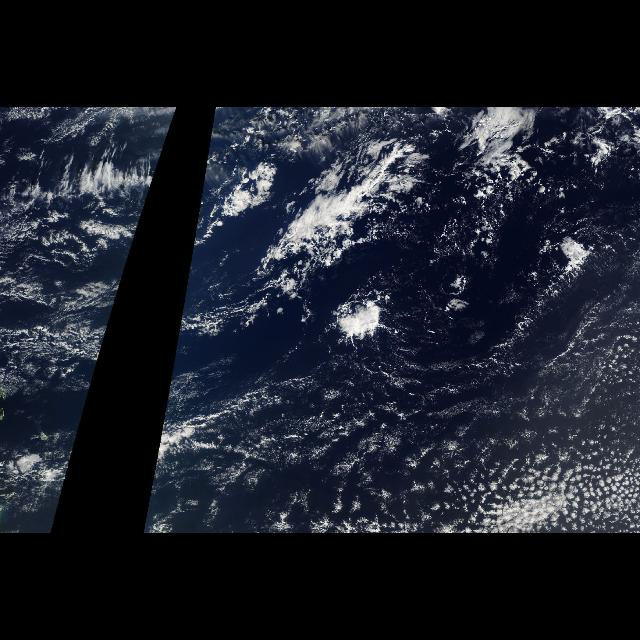Fish: (188, 121, 464, 307)
Flower: (406, 419, 640, 527)
Sugar: (242, 327, 632, 503)
